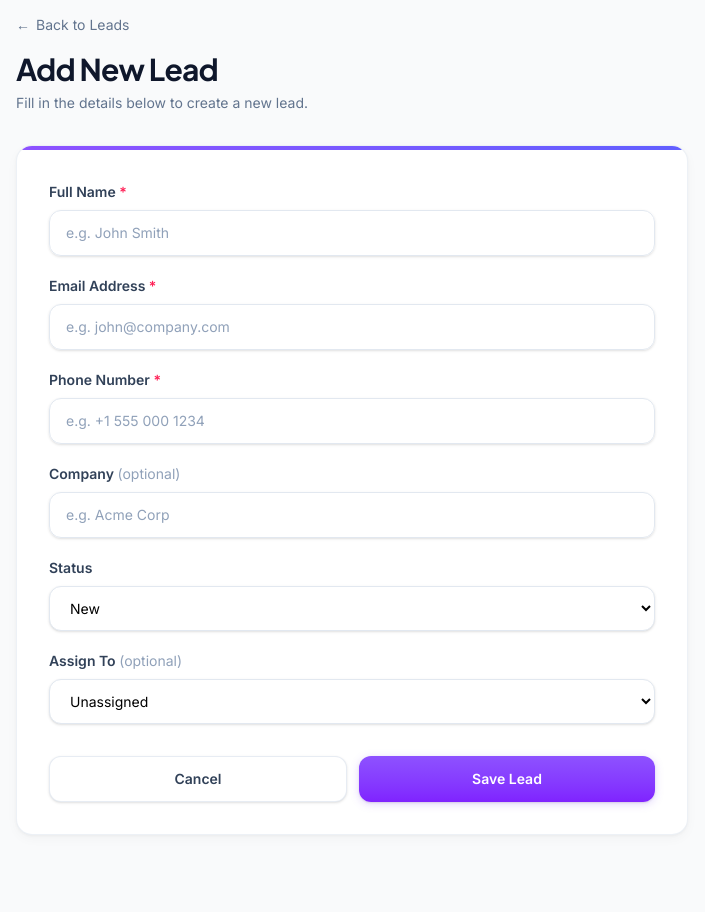
Scenario: AddLead › loads members and creates a lead
Type "Jordan Lee" into the field labelled "Full Name *" at (352, 233), box [49,210,655,256]
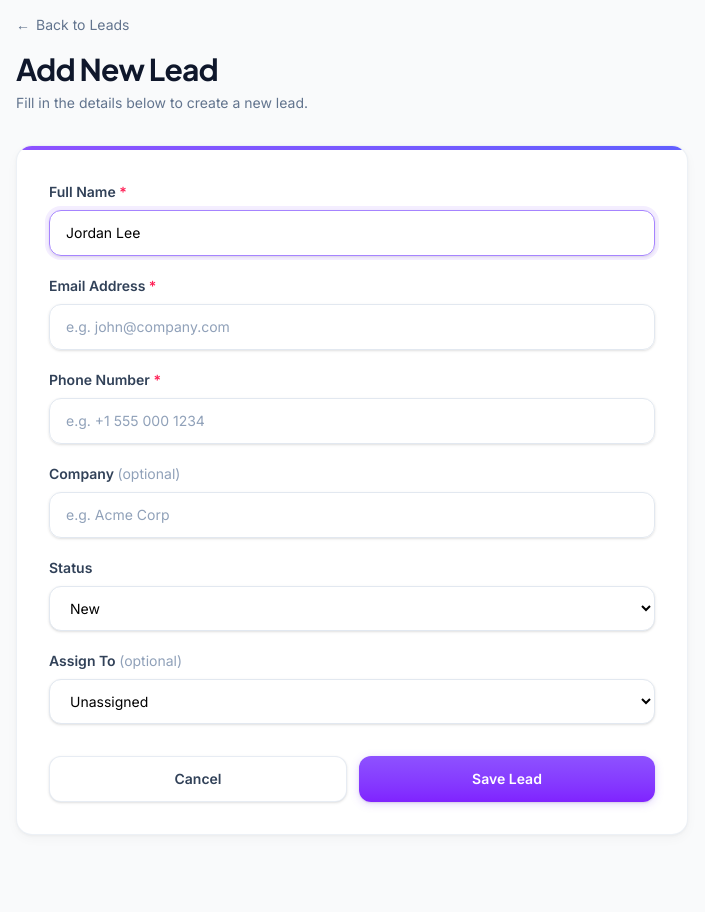
Type "jordan@example.com" into the field labelled "Email Address *" at (352, 327), box [49,304,655,350]
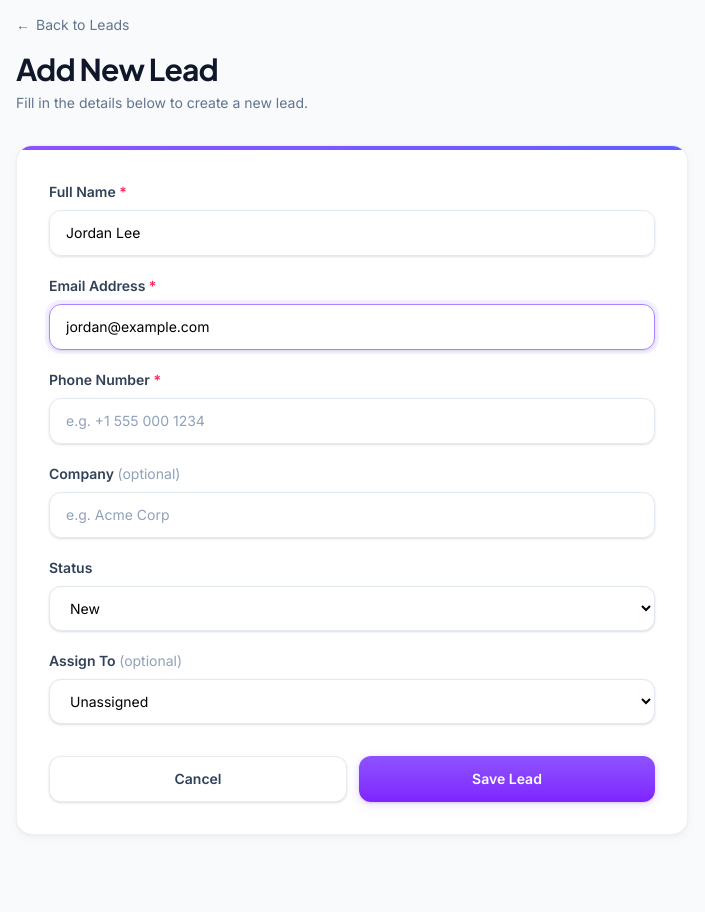
Type "555-0100" into the field labelled "Phone Number *" at (352, 421), box [49,398,655,444]
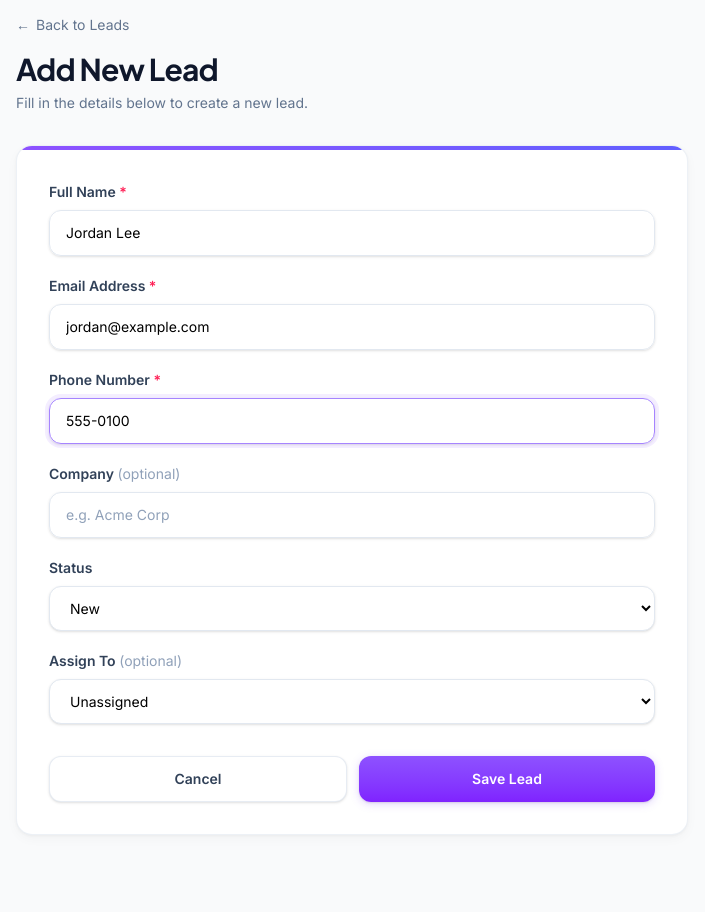
Select "Ava Patel (ava@example.com) — member" in the dropdown labelled "Assign To (optional)" at (352, 702), box [49,679,655,724]
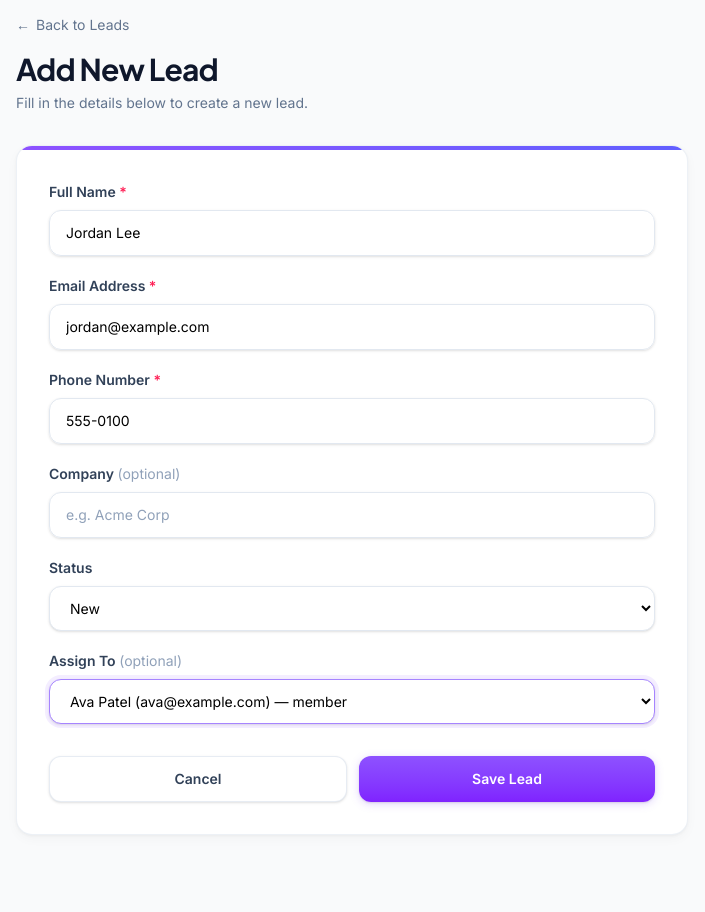
Click the button "Save Lead" at (507, 779), box [359,756,655,802]
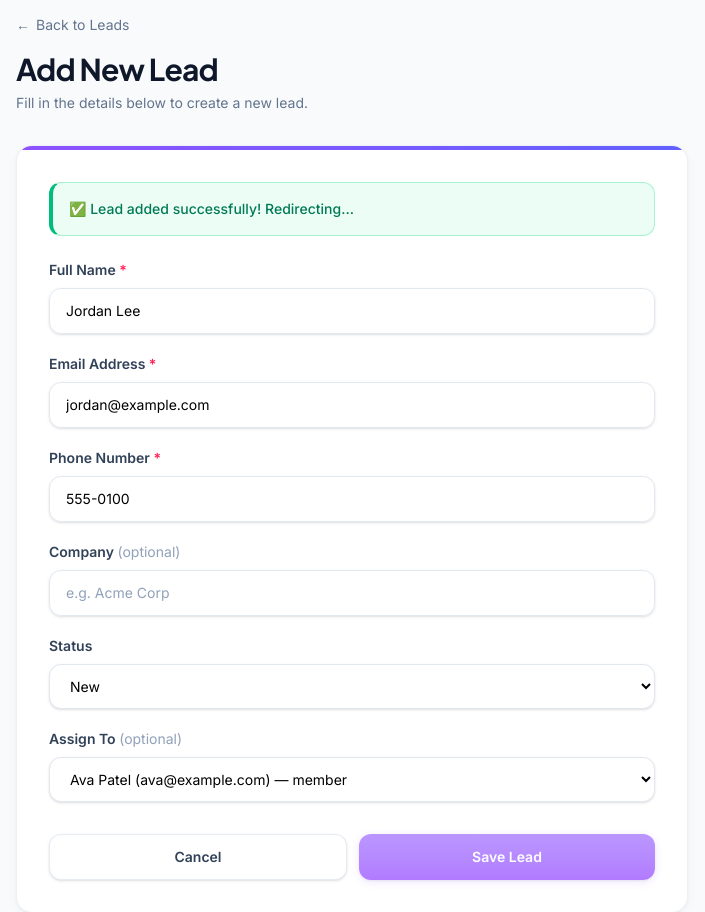
Now the text "✅ Lead added successfully! Redirecting..." is shown, box [49,182,655,236]
